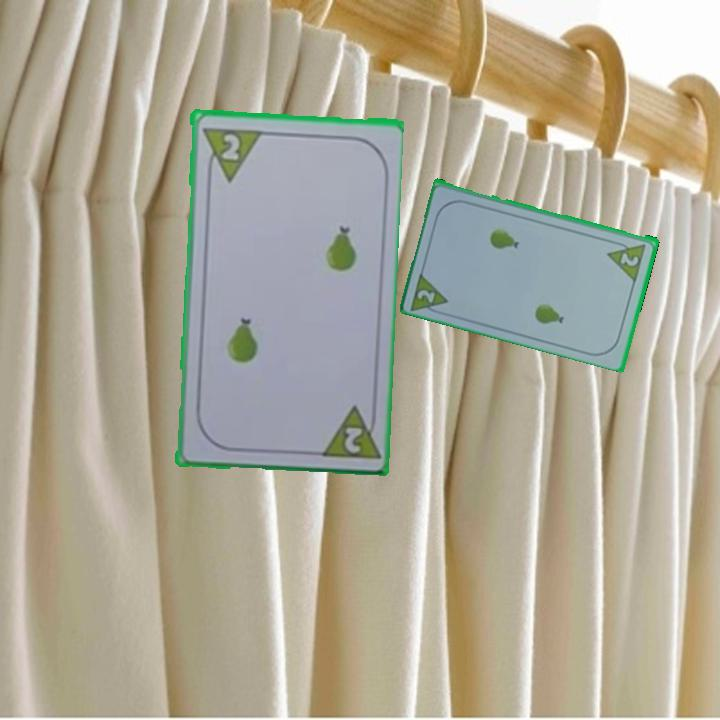2p: (315, 400, 380, 462), (604, 236, 649, 283), (217, 129, 242, 163), (414, 285, 439, 305)
